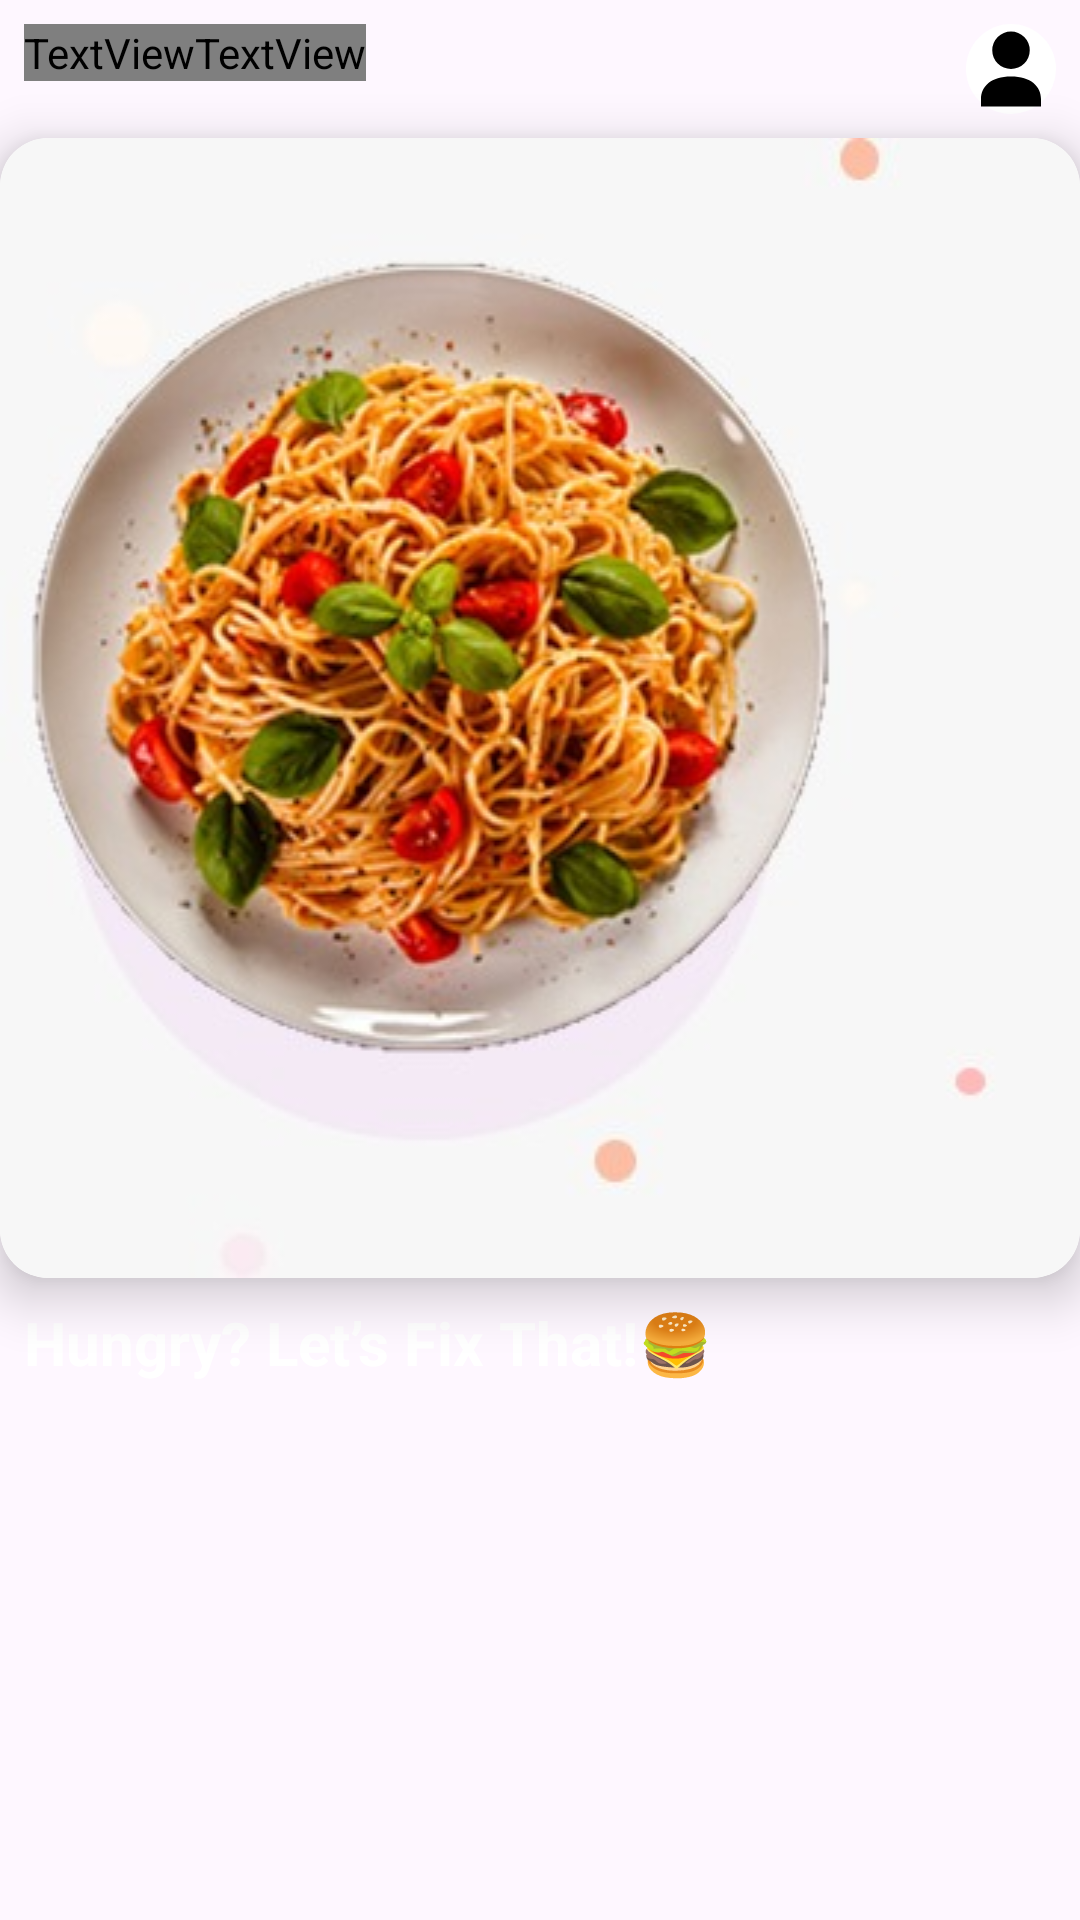

Screen size 1080px x 1920px. Icon name, then its box in pixels as (x1, y1, x2, y2):
person: (981, 31, 1041, 107)
